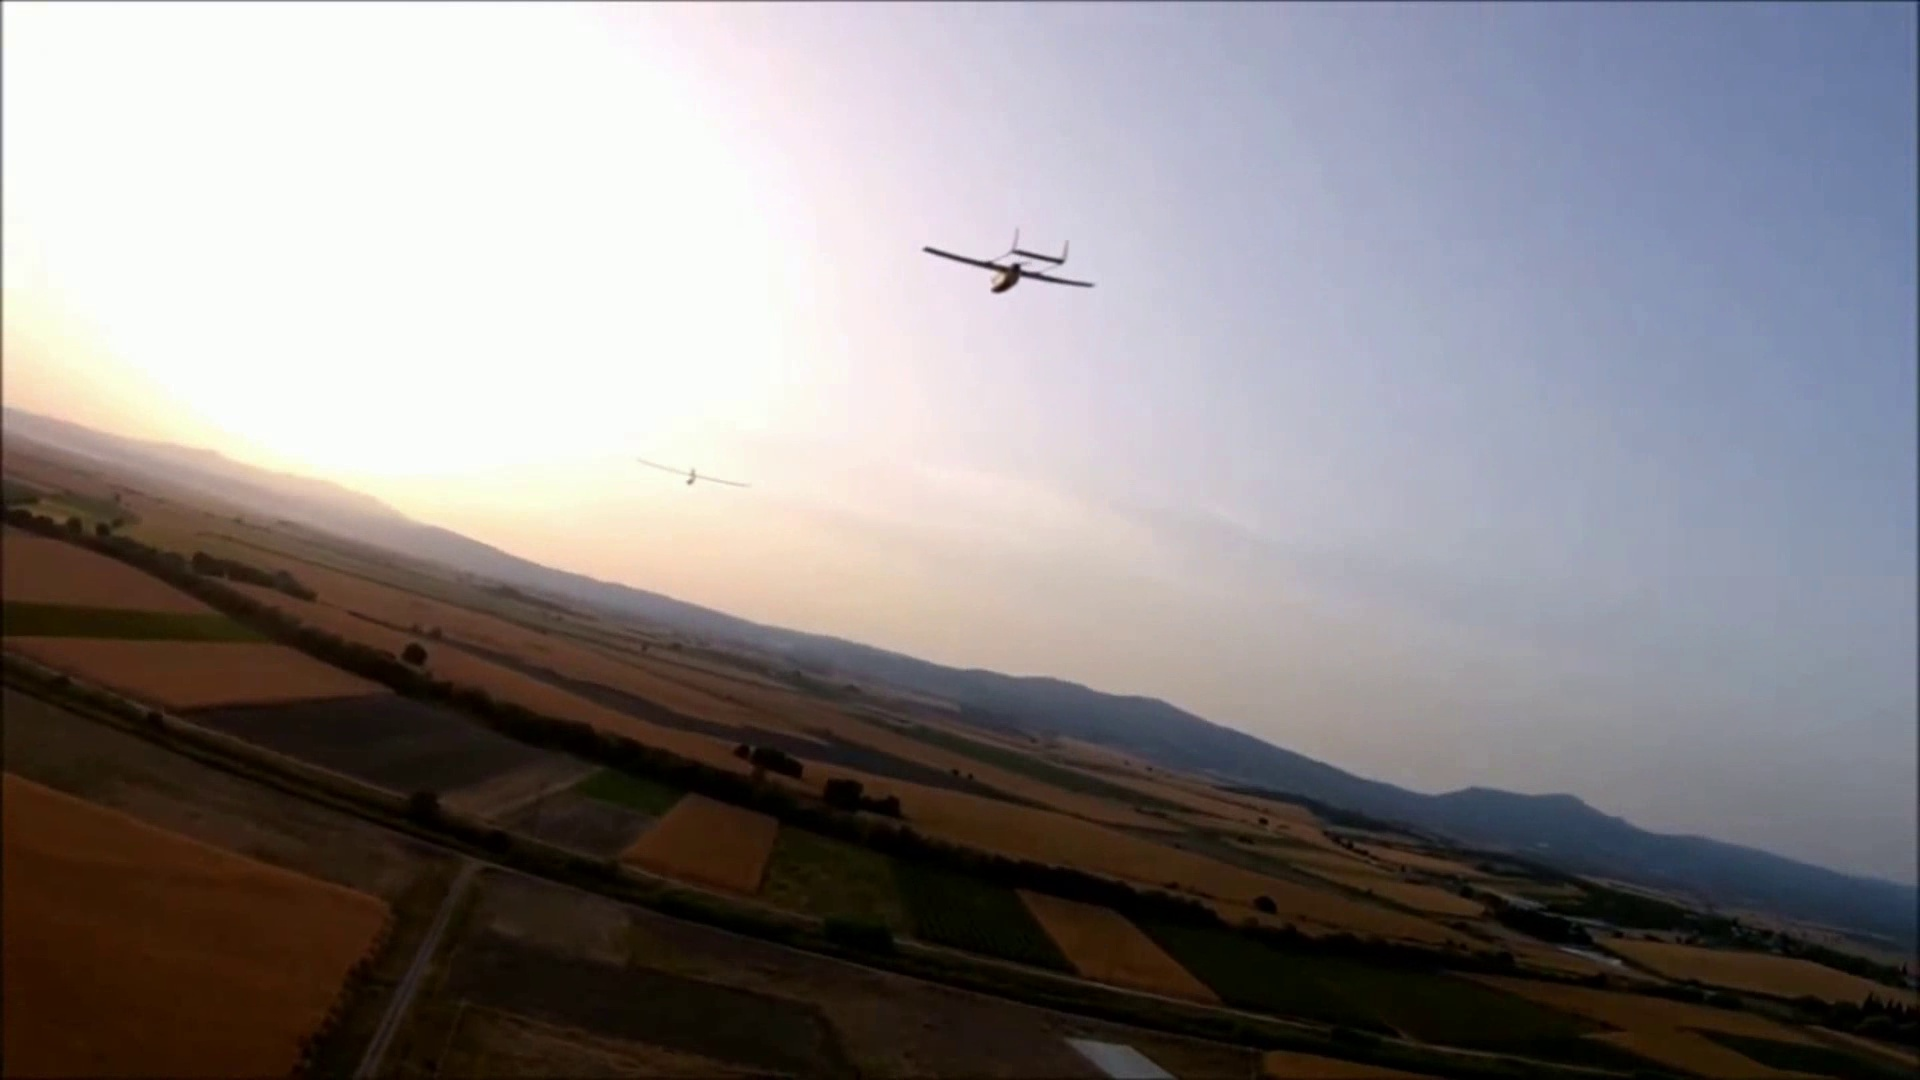airplane: (918, 231, 1098, 293)
